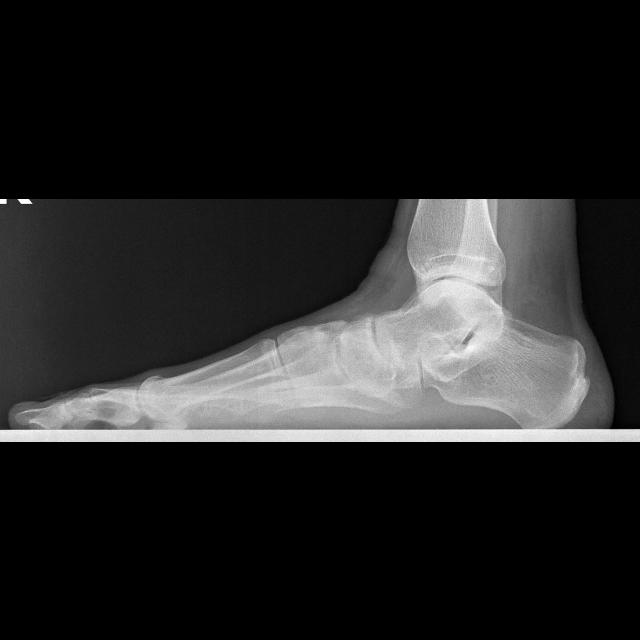a: (422, 311, 590, 428)
b: (337, 315, 397, 394)
c: (140, 337, 287, 423)
